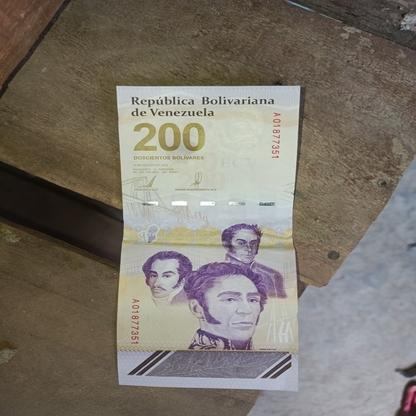vef_front: (117, 85, 300, 389)
